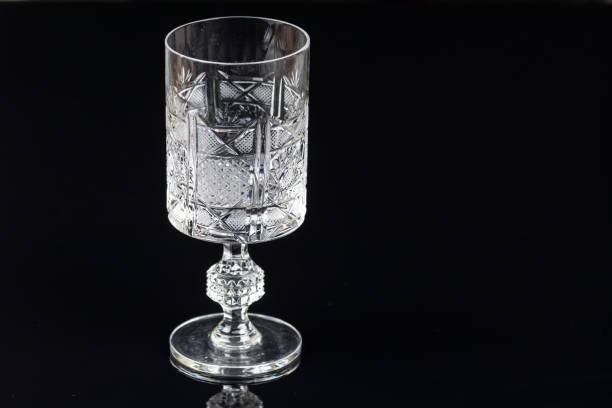glass-wine: (160, 14, 313, 387)
